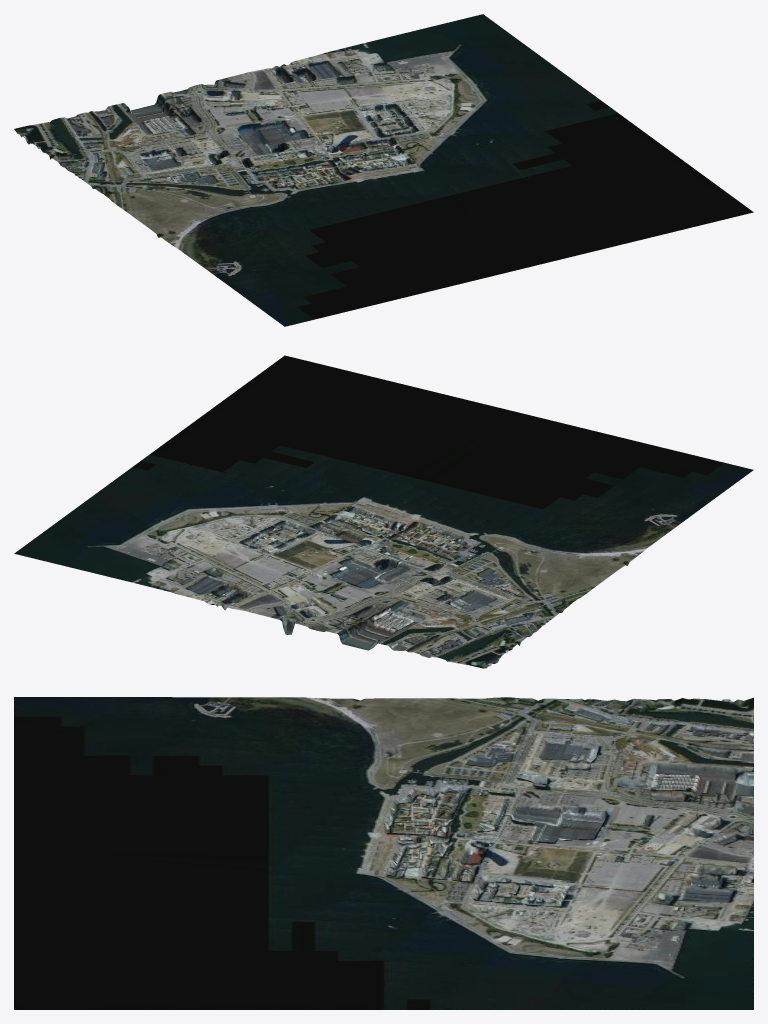
Rendered from map_10_251_424.dae.
3 views of the same model, one above another, from view 1: azimuth 30°, elevation 25°; view 2: azimuth 150°, elevation 25°; view 3: azimuth 270°, elevation 25° (orthographic). The views are drawn at different scales.
Visible parts, largest first — view 1: Ter0; view 2: Ter0; view 3: Ter0.
Boxes of the visible parts, bbox=[...] form: Ter0: bbox=[14, 14, 753, 326]; Ter0: bbox=[14, 355, 753, 668]; Ter0: bbox=[14, 697, 753, 1009].
Bounding box in the file's own units: 2044 × 2044 × 188.
3 materials, 3 textured.
